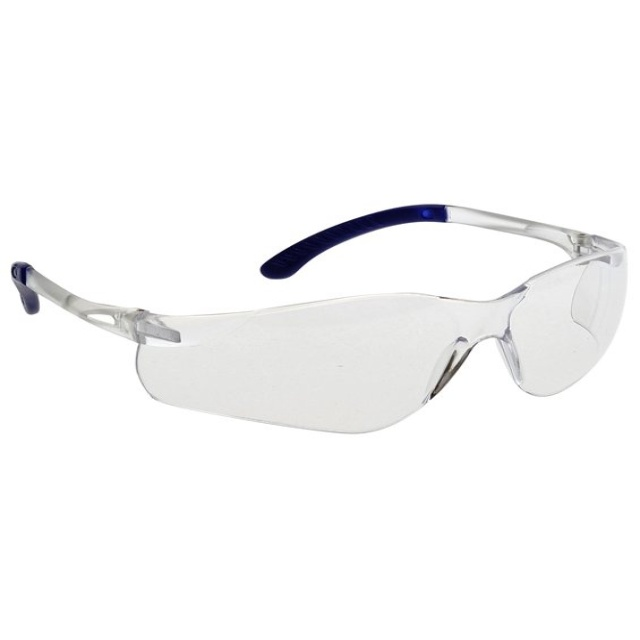Safety_Goggles: (2, 174, 635, 435)
